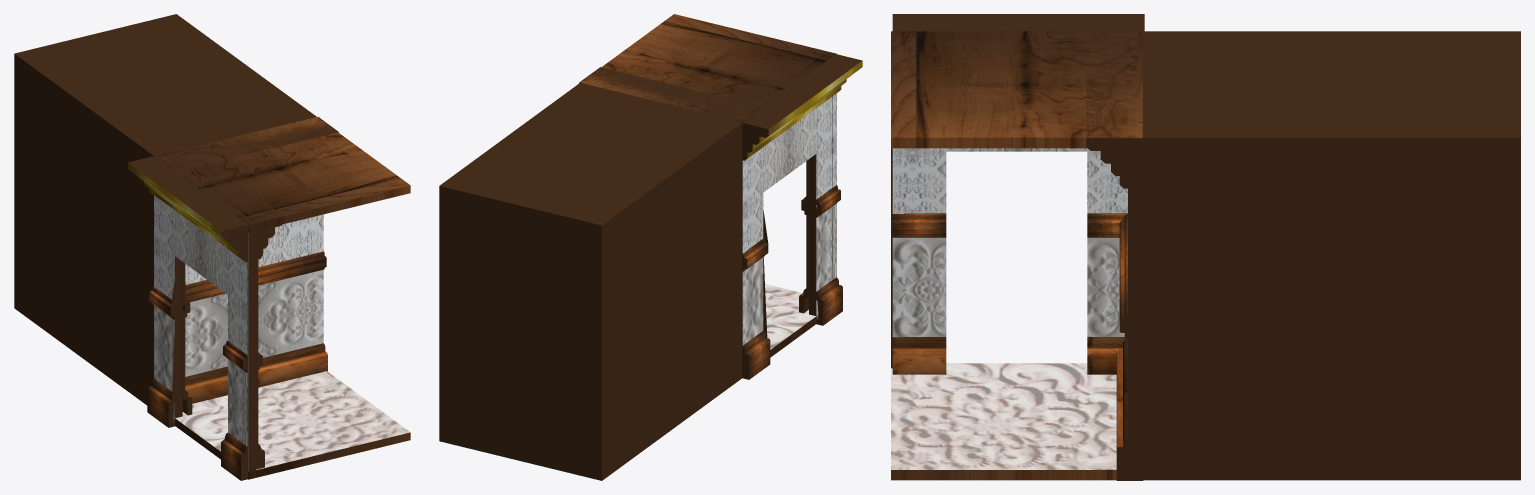
The model's file is lateral door.fbx.
3 views of the same model, side by side, from view 1: azimuth 30°, elevation 25°; view 2: azimuth 150°, elevation 25°; view 3: azimuth 270°, elevation 25° (orthographic). The views are drawn at different scales.
Parts seen in each view (by area): view 1: lateral door; view 2: lateral door; view 3: lateral door.
Part boxes in pixels (bbox=[...]): lateral door: bbox=[14, 14, 410, 480]; lateral door: bbox=[439, 14, 862, 480]; lateral door: bbox=[891, 14, 1520, 480].
Bounding box in the file's own units: 234 × 300 × 500.
